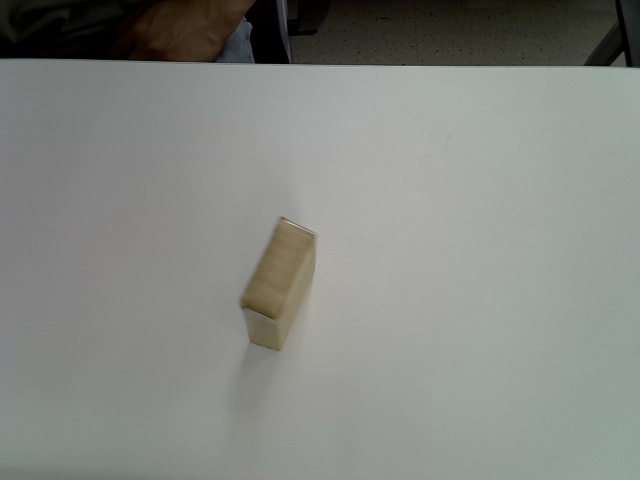normal: (240, 216, 318, 351)
